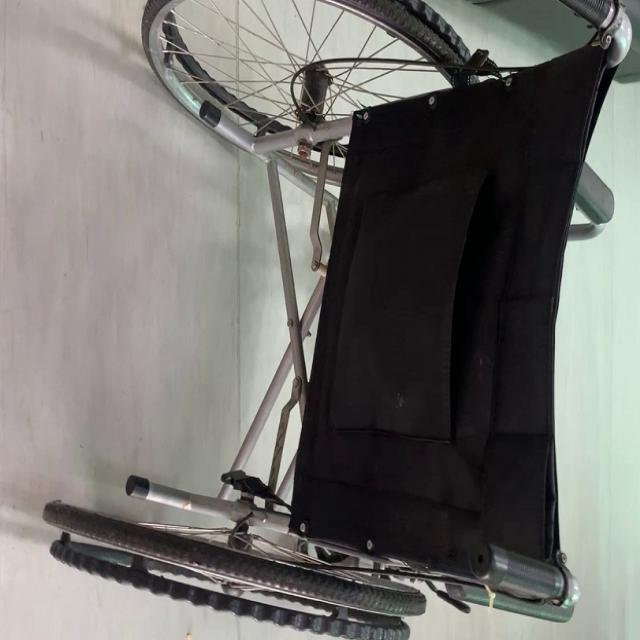wheelchair: (35, 5, 640, 640)
